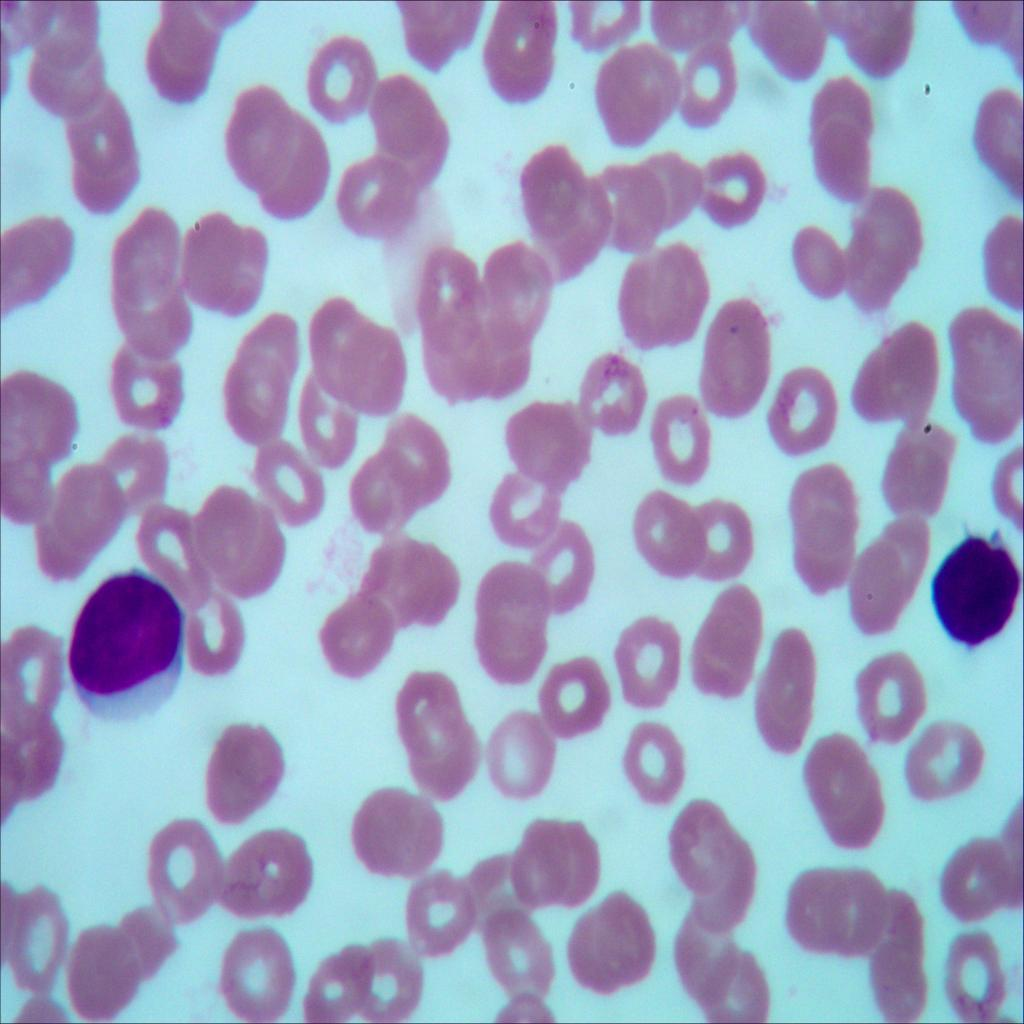Limfoblast: (57, 572, 191, 736), (909, 515, 1024, 651)
